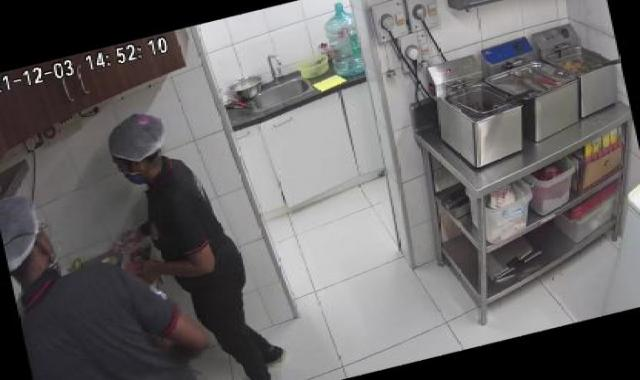hairnet: (97, 110, 176, 170), (0, 188, 52, 266)
